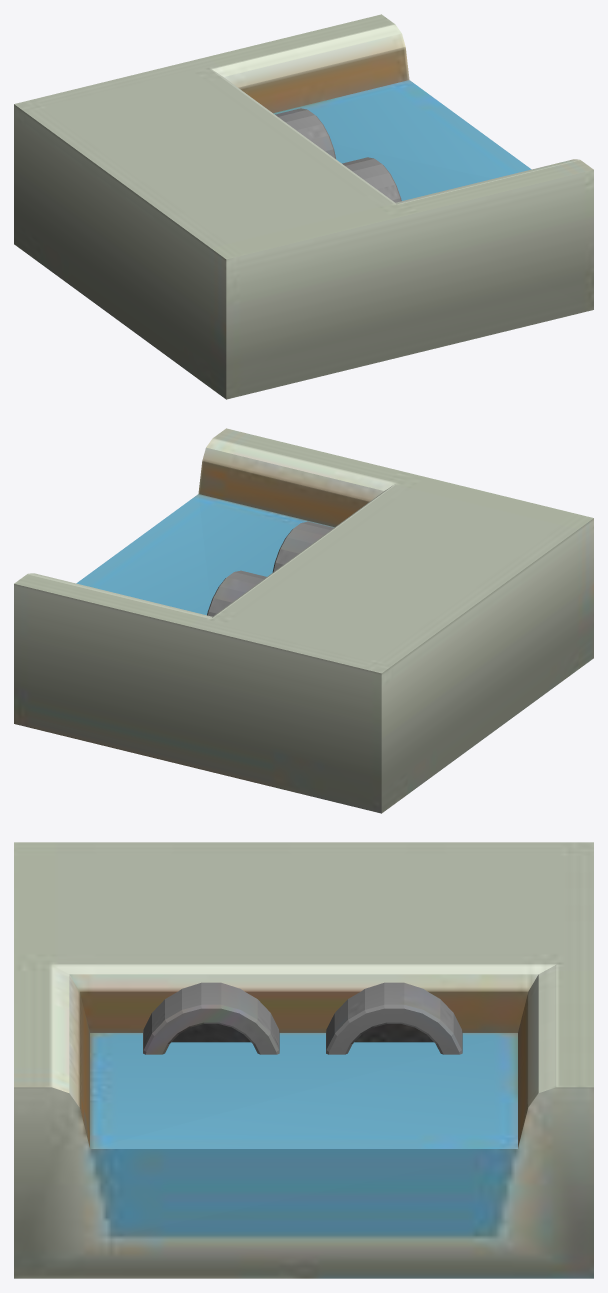
Rendered from creek_bridge.glb.
The picture shows the model from 3 angles, top to bottom: view 1: azimuth 30°, elevation 25°; view 2: azimuth 150°, elevation 25°; view 3: azimuth 270°, elevation 25°; orthographic projection. The views are drawn at different scales.
Visible parts, largest first — view 1: creek_bridge; view 2: creek_bridge; view 3: creek_bridge.
Boxes of the visible parts, x1,y1,x2,y2 form: creek_bridge: (14, 14, 593, 399); creek_bridge: (14, 428, 593, 813); creek_bridge: (14, 842, 593, 1278).
Size of the model in its own units: 2 by 0.7285 by 2.
Materials: 1 (1 with a texture image).
